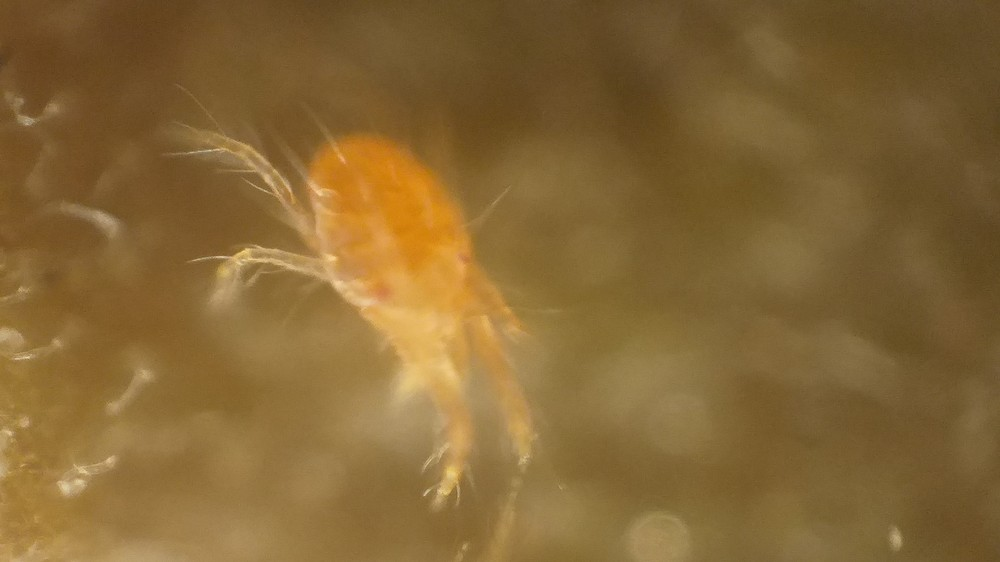Aracnido Rojo: (179, 82, 607, 504)
